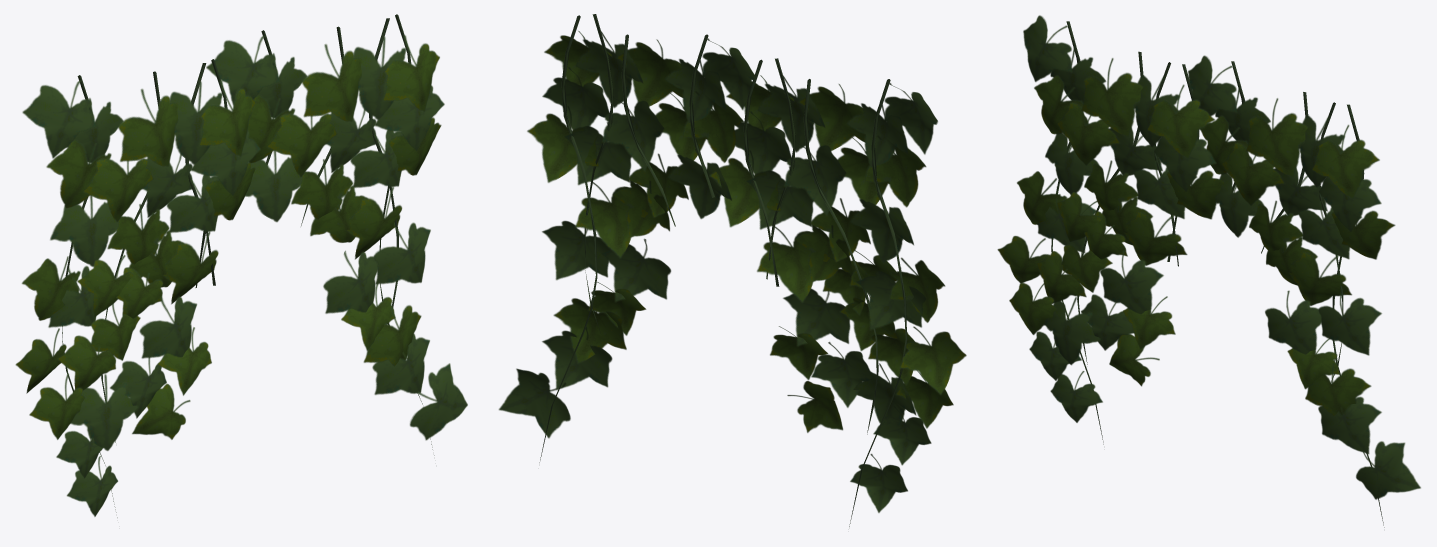
The model's file is mdl_paprika_ivy1.gltf.
The picture shows the model from 3 angles, left to right: view 1: azimuth 30°, elevation 25°; view 2: azimuth 150°, elevation 25°; view 3: azimuth 330°, elevation 25°; orthographic projection. The views are drawn at different scales.
Parts seen in each view (by area): view 1: Vine_Bunch_Flat_Cut_Out_V2; view 2: Vine_Bunch_Flat_Cut_Out_V2; view 3: Vine_Bunch_Flat_Cut_Out_V2.
Boxes of the visible parts, x1,y1,x2,y2 form: Vine_Bunch_Flat_Cut_Out_V2: (15,14,467,517); Vine_Bunch_Flat_Cut_Out_V2: (498,14,966,526); Vine_Bunch_Flat_Cut_Out_V2: (997,15,1420,527).
Bounding box in the file's own units: 2.42 × 2.4 × 0.2163.
1 material, 1 textured.
